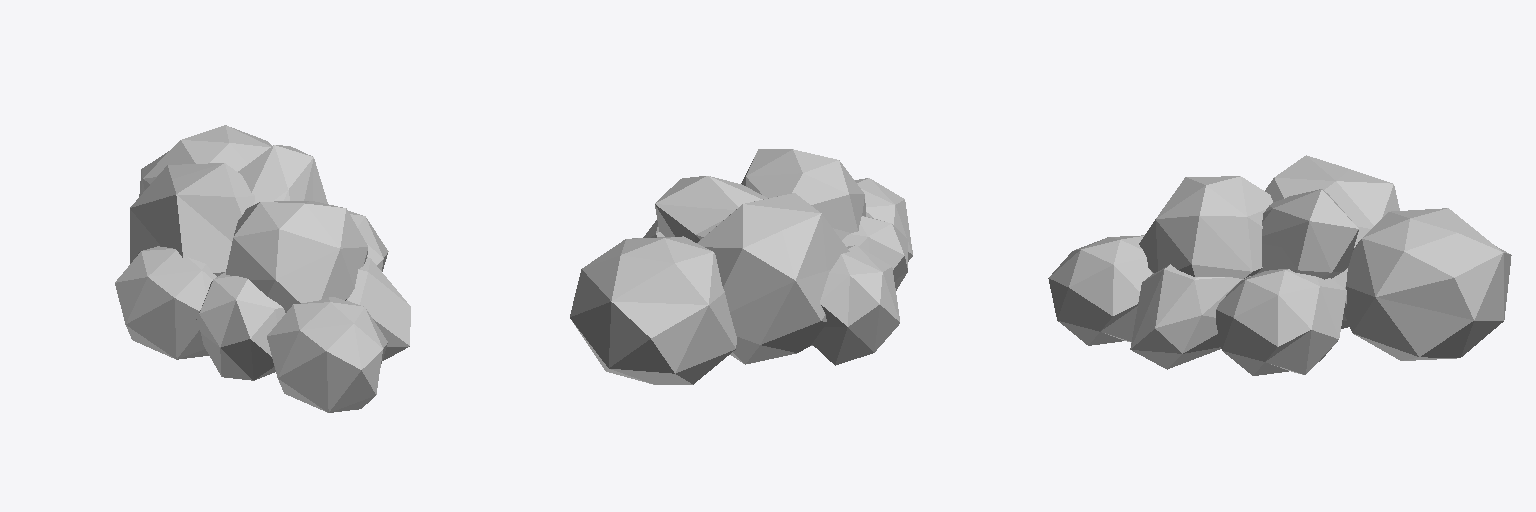
Rendered from nube_i_1.obj.
The picture shows the model from 3 angles: view 1: azimuth 30°, elevation 25°; view 2: azimuth 150°, elevation 25°; view 3: azimuth 270°, elevation 25°; orthographic projection.
Parts seen in each view (by area): view 1: cloud_1; view 2: cloud_1; view 3: cloud_1.
Boxes of the visible parts, x1=… form: cloud_1: x1=115, y1=125, x2=410, y2=412; cloud_1: x1=570, y1=149, x2=912, y2=384; cloud_1: x1=1048, y1=155, x2=1511, y2=375.
Size of the model in its own units: 7.54 by 4.72 by 11.5.